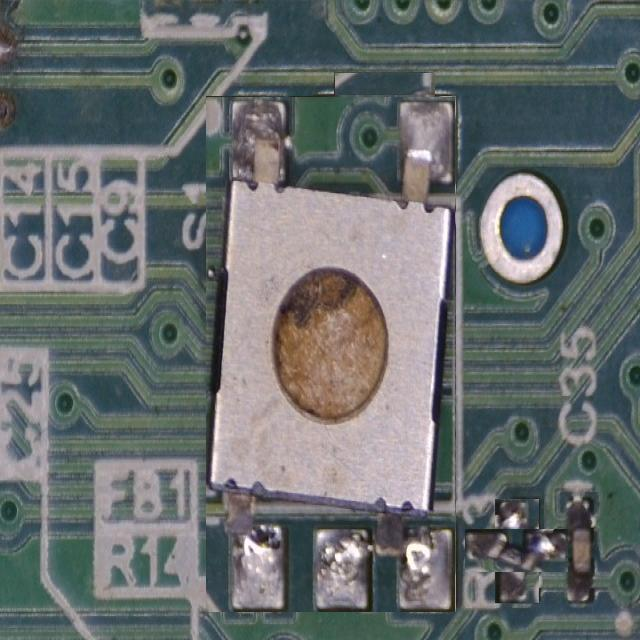Incorrect_installation: (207, 96, 454, 612), (466, 530, 567, 572)
Short_circuit: (335, 73, 434, 215)
